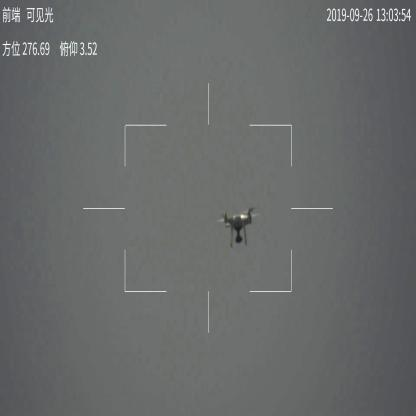uav: (216, 206, 262, 248)
